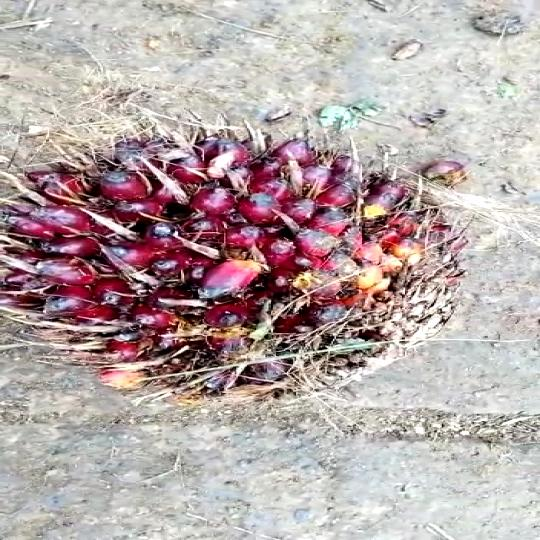kurang masak: (1, 114, 520, 398)
